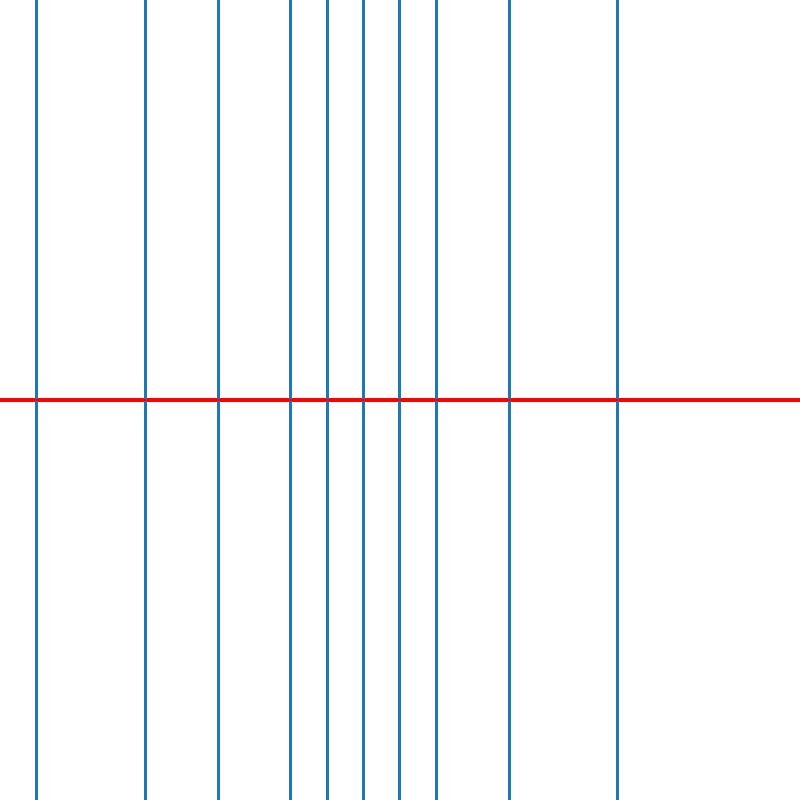root: (32, 396, 40, 404), (432, 396, 440, 404), (141, 396, 149, 404), (505, 396, 512, 404), (323, 396, 330, 404), (214, 396, 221, 404), (287, 396, 294, 404), (614, 396, 621, 404), (360, 396, 367, 404), (396, 396, 403, 404)
